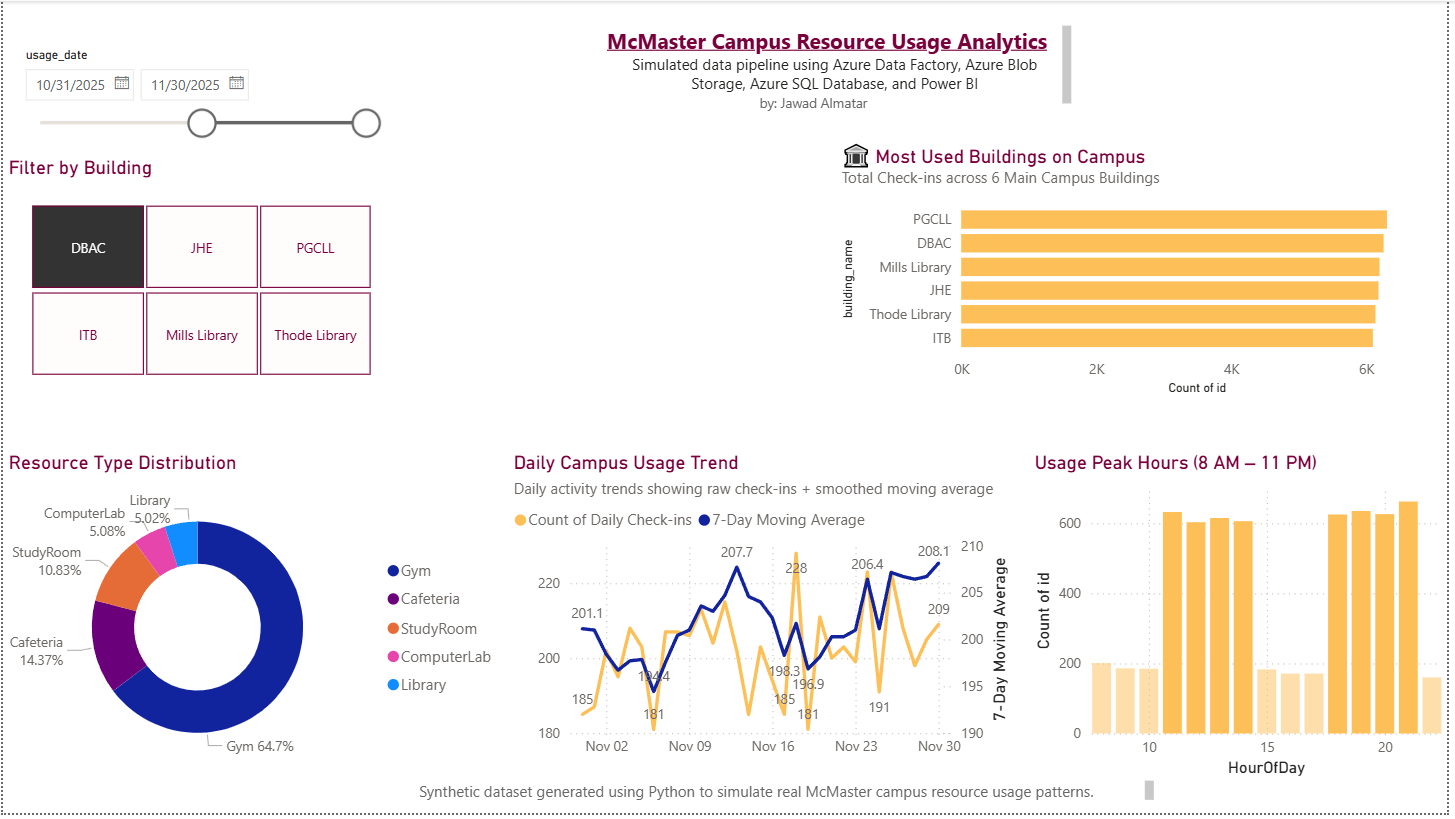

This screenshot's page, from the dashboard's own definition file:
{"tool":"powerbi","page":{"name":"Page 1","canvas":[1280,720],"ordinal":0},"visuals":[{"type":"clusteredBarChart","title":"🏛️ Most Used Buildings on Campus","fields":{"Category":["CampusUsage.building_name"],"Y":["CountNonNull(CampusUsage.id)"]},"box":[738.6,123.3,541.8,230.5],"z":0},{"type":"lineChart","title":"Daily Campus Usage Trend","fields":{"Y":["CountNonNull(CampusUsage.id)"],"Category":["CampusUsage.usage_date"],"Y2":["CampusUsage.SevenDayAvg"]},"box":[447.8,399,447.8,293.5],"z":1000},{"type":"clusteredColumnChart","title":"Usage Peak Hours (8 AM – 11 PM)","fields":{"Category":["CampusUsage.HourOfDay"],"Y":["CountNonNull(CampusUsage.id)"]},"box":[909.8,399,370.6,293.5],"z":2000},{"type":"donutChart","title":"Resource Type Distribution","fields":{"Category":["CampusUsage.resource_type"],"Y":["CountNonNull(CampusUsage.id)"]},"box":[0,399,447.8,293.5],"z":3000},{"type":"slicer","fields":{"Values":["CampusUsage.usage_date"]},"box":[7.1,36.4,336.1,89.6],"z":4000},{"type":"slicer","title":"Filter by Building","fields":{"Values":["CampusUsage.building_name"]},"box":[0,137.4,350.2,201.3],"z":5000},{"type":"textbox","box":[530.2,16.8,422.1,90.4],"z":6000},{"type":"textbox","box":[317.4,686.3,708.5,33.7],"z":7000}]}

Visuals, with their boxes in screenshot pixels (x1, y1, x2, y2), scaled from the page's 1280x720 canvas onto the 1455x819 screenshot:
"🏛️ Most Used Buildings on Campus" clusteredBarChart: (840,140,1454,402)
"Daily Campus Usage Trend" lineChart: (509,454,1018,788)
"Usage Peak Hours (8 AM – 11 PM)" clusteredColumnChart: (1034,454,1454,788)
"Resource Type Distribution" donutChart: (0,454,509,788)
slicer - CampusUsage.usage_date: (8,41,390,143)
"Filter by Building" slicer: (0,156,398,385)
textbox: (603,19,1082,122)
textbox: (361,781,1166,818)
